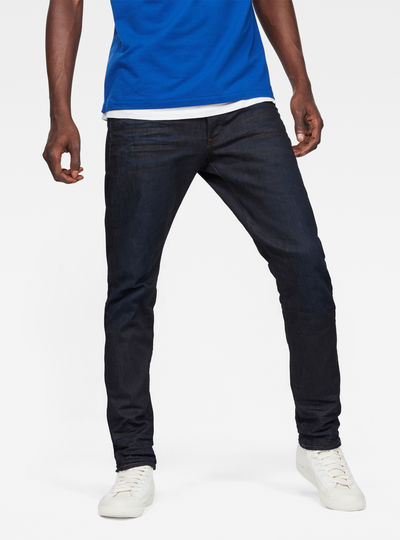jeans: (108, 103, 343, 470)
